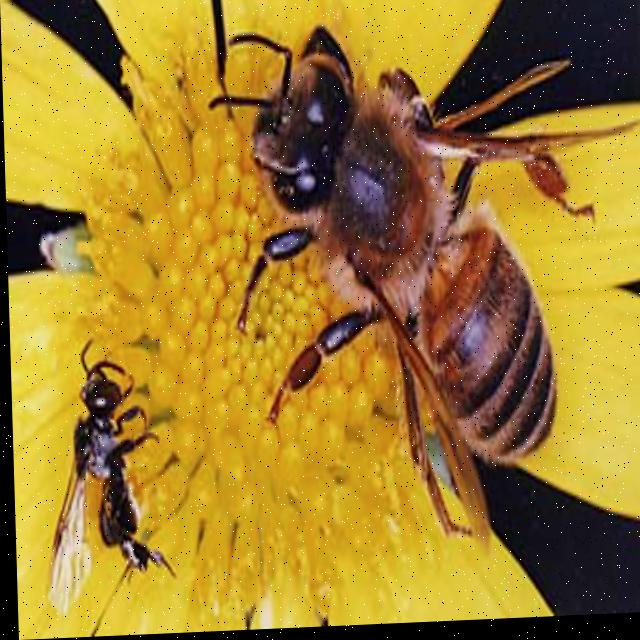Allodapula: (32, 314, 175, 627)
Apis-mellifera-scutellata: (210, 3, 617, 556)
